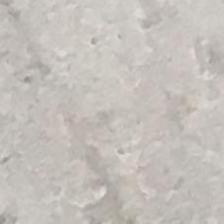Non_Crack: (27, 6, 224, 215)
